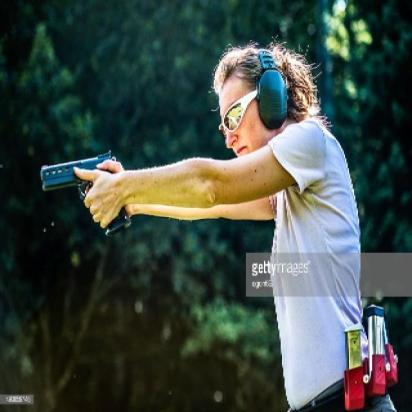Gun: (34, 146, 136, 238)
